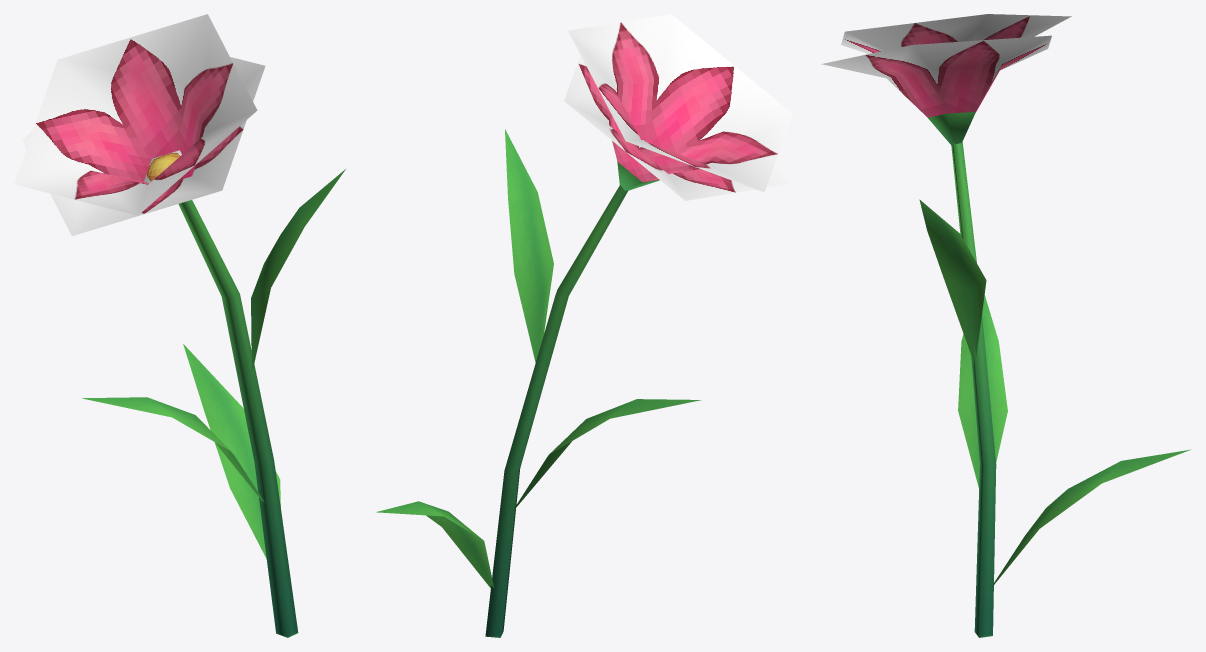
File: Flower_Bellflower_2.glb
3 views of the same model, side by side, from view 1: azimuth 30°, elevation 25°; view 2: azimuth 150°, elevation 25°; view 3: azimuth 270°, elevation 25° (orthographic). The views are drawn at different scales.
Parts seen in each view (by area): view 1: Cone.087_Cone.111, Cube.132_Cube.257, Cone.088_Cone.112, object6.096_object6.040, object6.090_object6.034, object6.089_object6.033, Cone.086_Cone.110; view 2: Cone.087_Cone.111, Cube.132_Cube.257, object6.090_object6.034, Cone.088_Cone.112, object6.096_object6.040, object6.089_object6.033; view 3: Cone.088_Cone.112, Cube.132_Cube.257, Cone.087_Cone.111, object6.090_object6.034, object6.089_object6.033, object6.096_object6.040, Cone.089_Cone.113.
Part boxes in pixels (x1=…): Cone.087_Cone.111: x1=14, y1=14, x2=257, y2=215; Cube.132_Cube.257: x1=178, y1=200, x2=298, y2=637; Cone.088_Cone.112: x1=22, y1=57, x2=265, y2=235; object6.096_object6.040: x1=183, y1=344, x2=280, y2=558; object6.090_object6.034: x1=251, y1=169, x2=345, y2=371; object6.089_object6.033: x1=82, y1=397, x2=263, y2=501; Cone.086_Cone.110: x1=144, y1=150, x2=181, y2=183; Cone.087_Cone.111: x1=568, y1=14, x2=792, y2=192; Cube.132_Cube.257: x1=485, y1=185, x2=628, y2=637; object6.090_object6.034: x1=505, y1=129, x2=553, y2=362; Cone.088_Cone.112: x1=564, y1=22, x2=788, y2=200; object6.096_object6.040: x1=376, y1=501, x2=494, y2=588; object6.089_object6.033: x1=515, y1=399, x2=701, y2=508; Cone.088_Cone.112: x1=821, y1=35, x2=1051, y2=117; Cube.132_Cube.257: x1=951, y1=142, x2=996, y2=637; Cone.087_Cone.111: x1=841, y1=14, x2=1071, y2=53; object6.090_object6.034: x1=919, y1=199, x2=986, y2=362; object6.089_object6.033: x1=958, y1=295, x2=1007, y2=488; object6.096_object6.040: x1=991, y1=449, x2=1190, y2=588; Cone.089_Cone.113: x1=928, y1=111, x2=975, y2=146.
Size of the model in its own units: 0.405 by 0.8243 by 0.4733.
4 materials, 4 textured.
